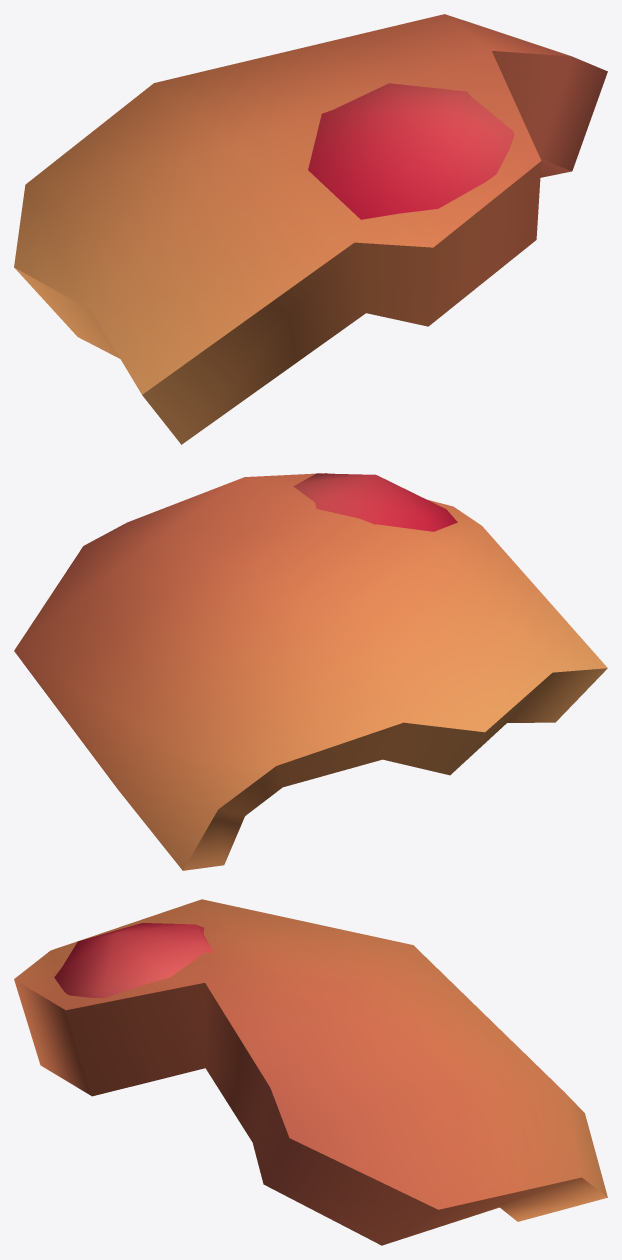
File: Egg_Particle_Red_003.fbx
3 renders of one model, top to bottom at view 1: azimuth 30°, elevation 25°; view 2: azimuth 150°, elevation 25°; view 3: azimuth 270°, elevation 25°, orthographic. The views are drawn at different scales.
Parts seen in each view (by area): view 1: Egg_Particle_Red_003; view 2: Egg_Particle_Red_003; view 3: Egg_Particle_Red_003.
Part boxes in pixels (x1,y1,x2,y2): Egg_Particle_Red_003: [14, 14, 607, 444]; Egg_Particle_Red_003: [14, 473, 607, 870]; Egg_Particle_Red_003: [14, 899, 607, 1245].
Size of the model in its own units: 1.17 by 0.6551 by 1.16.
